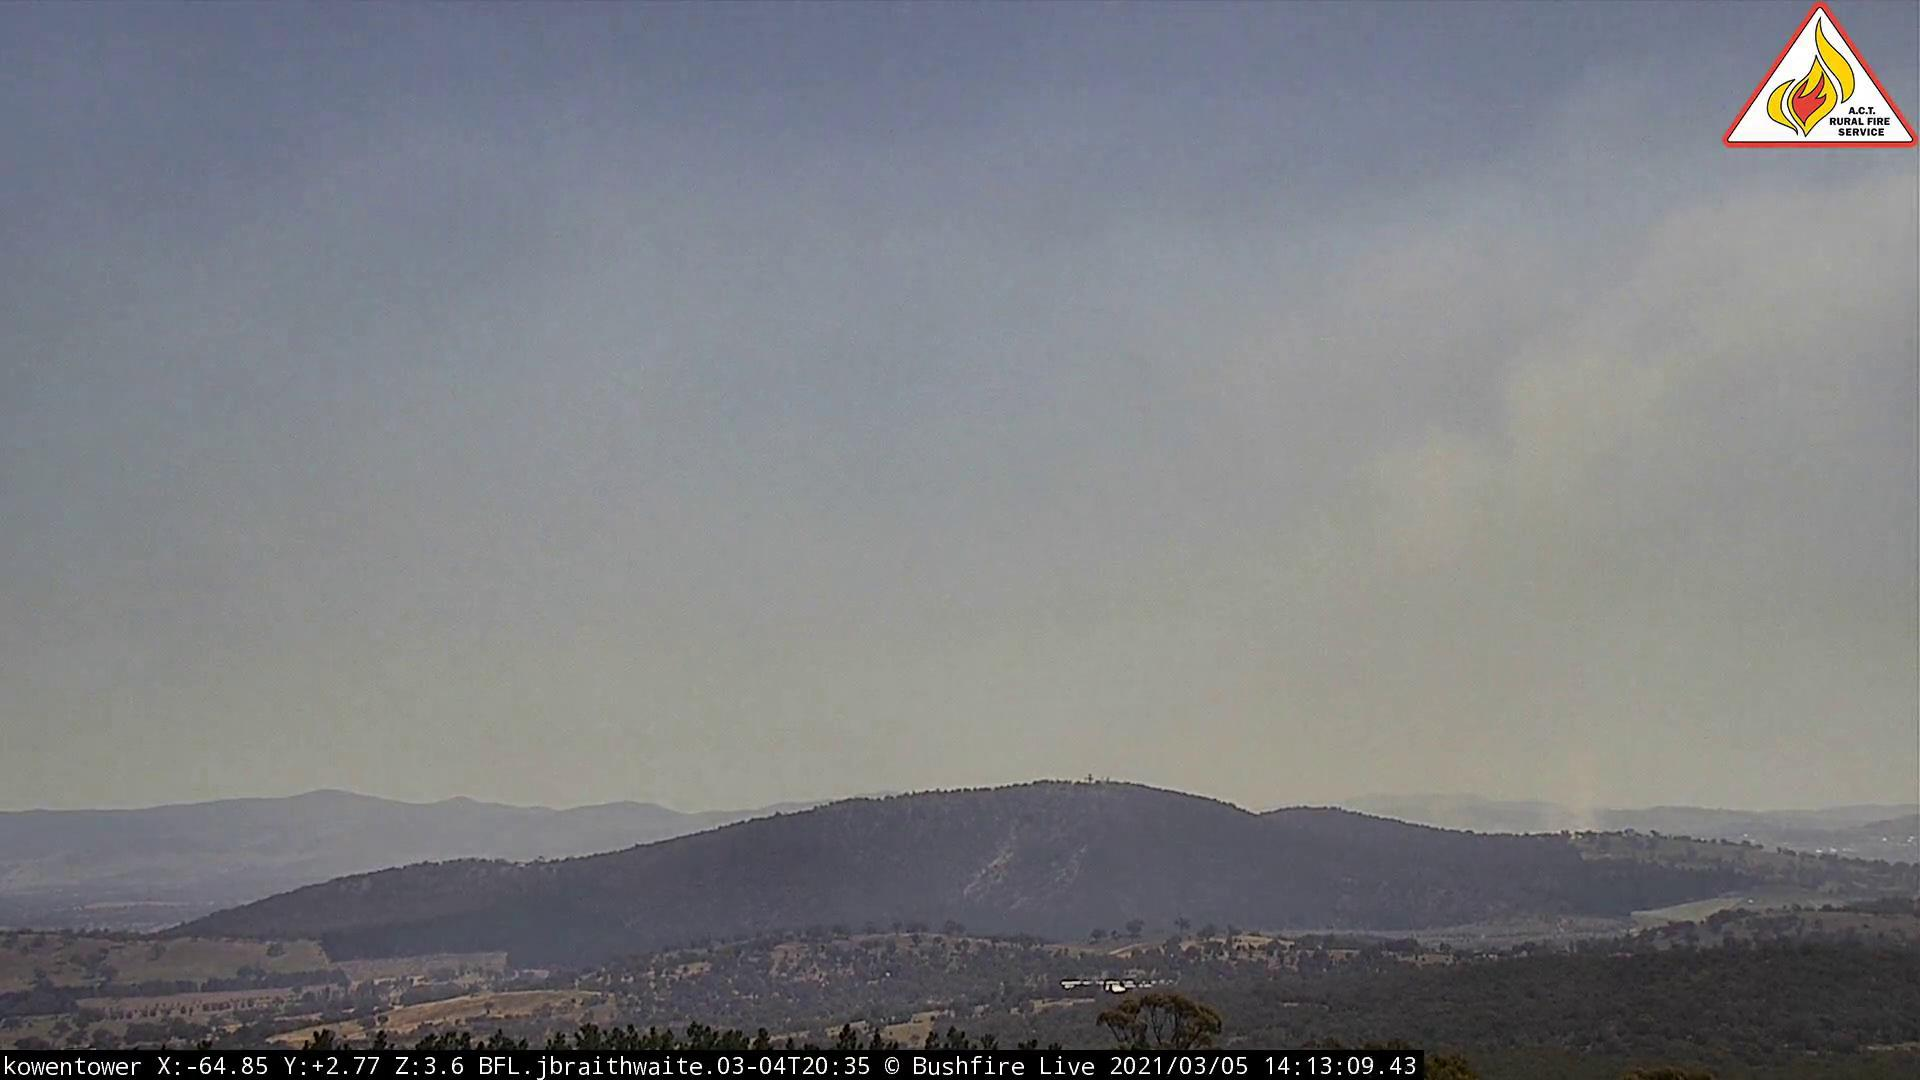Smoke: (1367, 294, 1753, 844)
